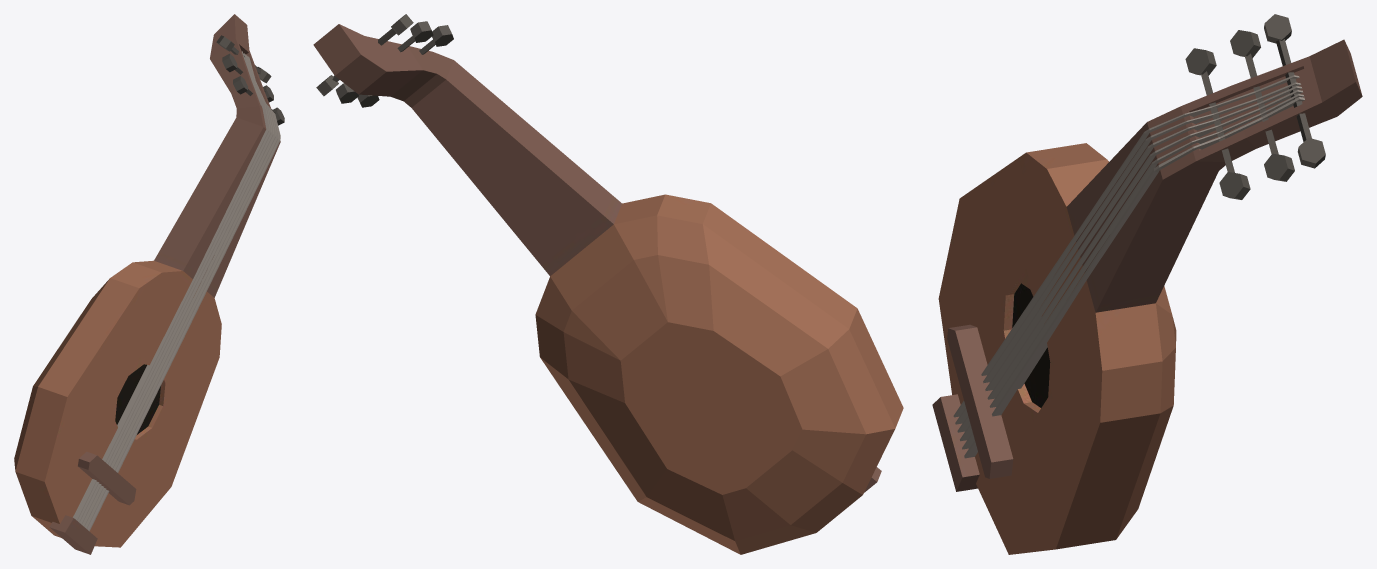
3 views of the same model, side by side, from view 1: azimuth 30°, elevation 25°; view 2: azimuth 150°, elevation 25°; view 3: azimuth 270°, elevation 25° (orthographic). The views are drawn at different scales.
Parts seen in each view (by area): view 1: lute; view 2: lute; view 3: lute.
Part boxes in pixels (bbox=[...]): lute: bbox=[14, 14, 284, 554]; lute: bbox=[313, 14, 903, 554]; lute: bbox=[932, 14, 1362, 554].
Bounding box in the file's own units: 1.78 × 2 × 1.13.
Materials: 1 (1 with a texture image).
